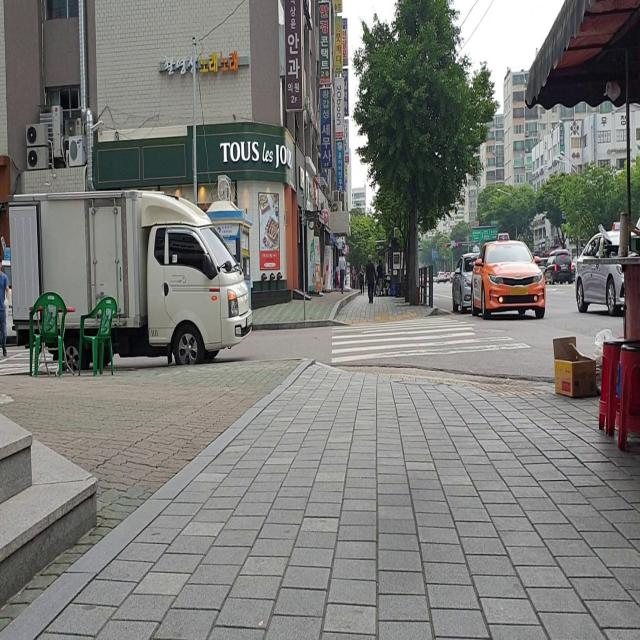횡단보도: (330, 316, 532, 364)
